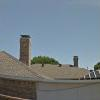Chimney: (16, 20, 38, 74)
